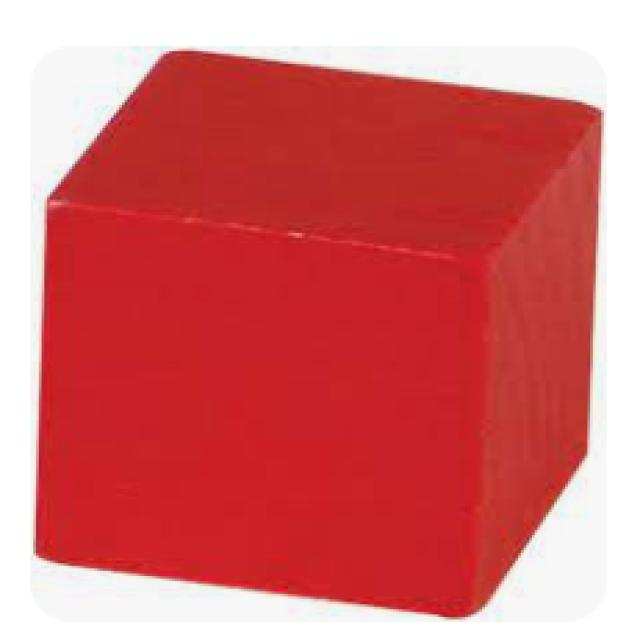red cube: (33, 44, 607, 624)
